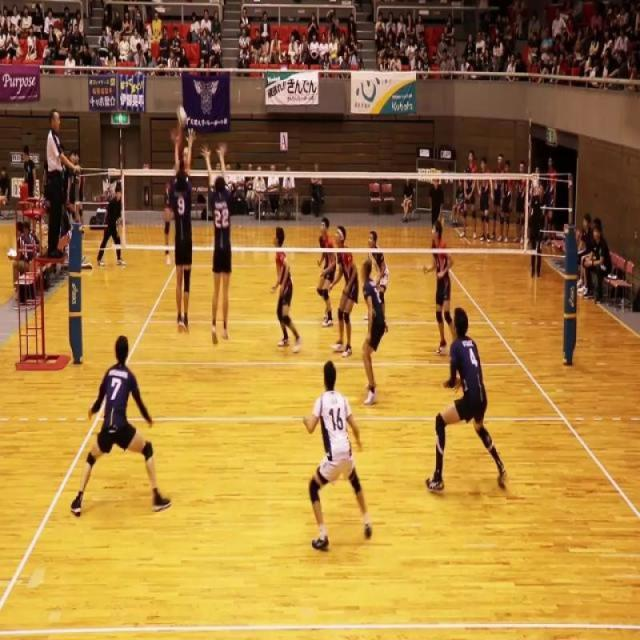volleyball: (177, 103, 187, 133)
